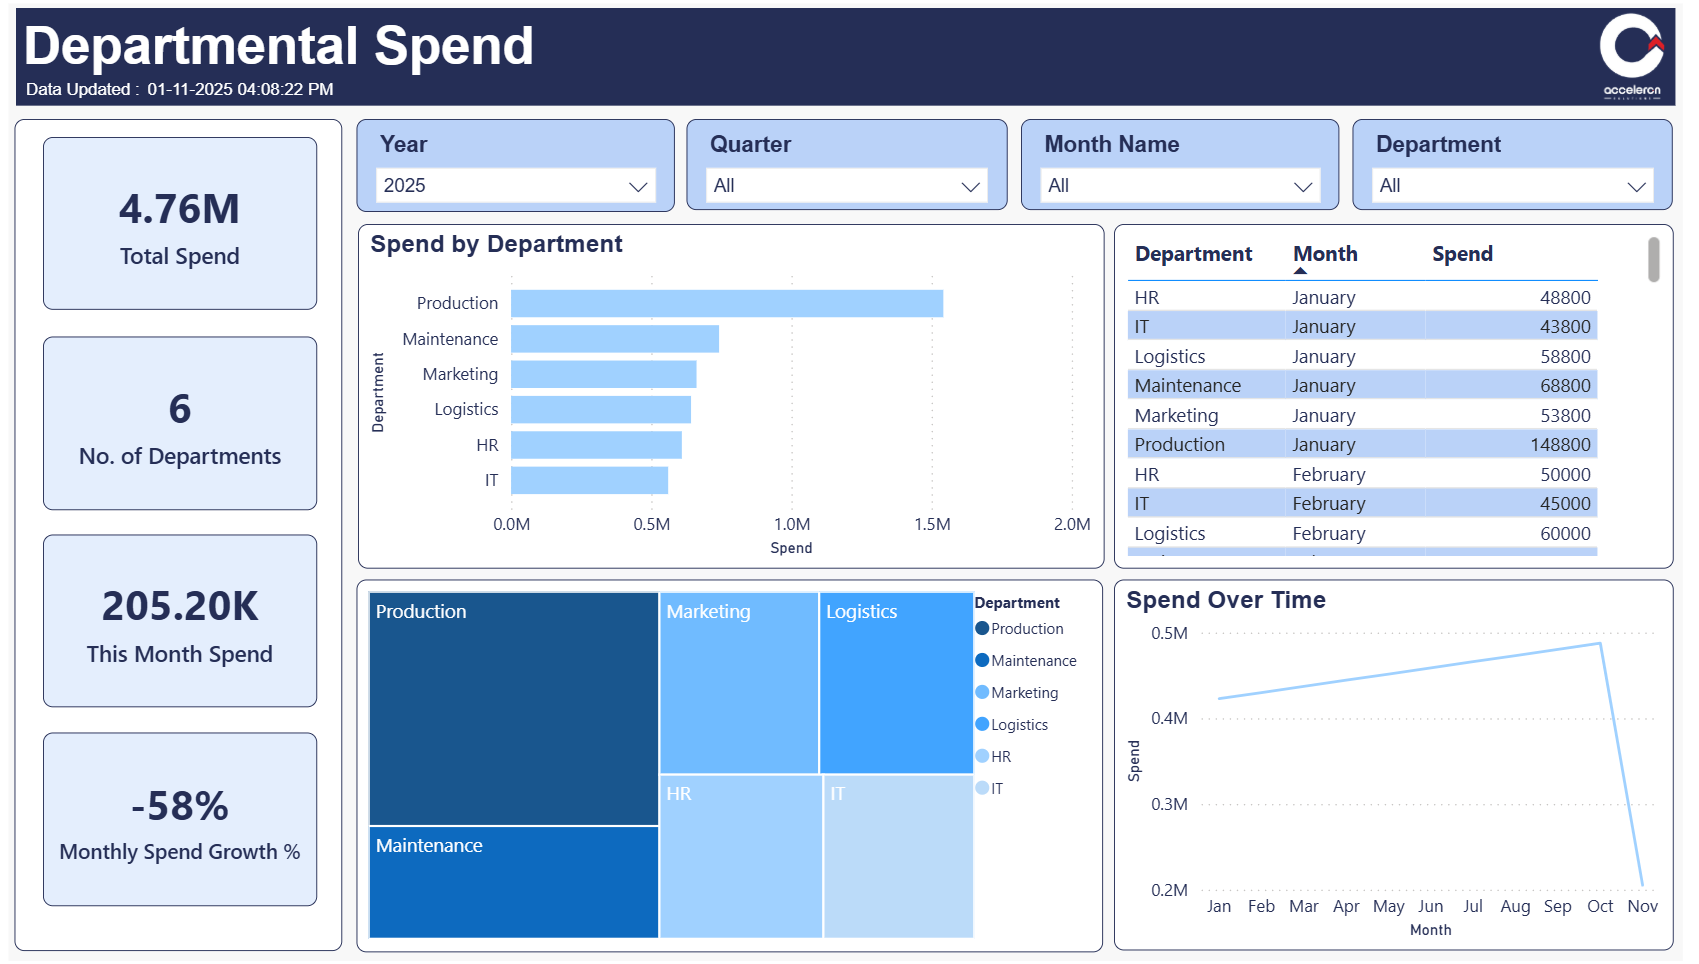

The dashboard page shown, as its layout file describes it:
{"tool":"powerbi","page":{"name":"Departmental Spend","canvas":[1200,690],"ordinal":3},"visuals":[{"type":"textbox","box":[5.6,5.6,1188.8,680],"z":0},{"type":"textbox","box":[10.5,8.1,1178.2,69.4],"z":1000},{"type":"image","box":[1127.3,57,60.2,21.9],"z":2000},{"type":"image","box":[1127.3,5.5,60.2,59.4],"z":3000},{"type":"textbox","box":[13,49.5,95.8,29.2],"z":4000},{"type":"textbox","box":[98.6,49.5,157.4,31],"z":5000},{"type":"slicer","fields":{"Values":["Date.Year"]},"box":[252.3,87.7,226,66.2],"z":6000},{"type":"slicer","fields":{"Values":["Date.Month Name"]},"box":[724.3,87.5,226.3,64.5],"z":7000},{"type":"slicer","fields":{"Values":["Date.Quarter"]},"box":[486.7,87.8,227.8,64.4],"z":8000},{"type":"textbox","box":[9.9,87.6,232.6,590.9],"z":9000},{"type":"card","fields":{"Values":["Count(DepartmentalSpend.Department)"]},"box":[29.6,241.8,194.9,123.5],"z":10000},{"type":"card","fields":{"Values":["Sum(DepartmentalSpend.Spend)"]},"box":[29.6,100,194.9,122.4],"z":11000},{"type":"card","fields":{"Values":["DepartmentalSpend.This Month Spend"]},"box":[29.6,382.7,194.9,122.4],"z":12000},{"type":"tableEx","fields":{"Values":["DepartmentalSpend.Department","DepartmentalSpend.Column.Variation.Date Hierarchy.Month","Sum(DepartmentalSpend.Spend)"]},"box":[790.6,161.8,397.1,244.7],"z":13000},{"type":"card","fields":{"Values":["DepartmentalSpend.Spend Growth %"]},"box":[29.6,522.4,194.9,123.5],"z":14000},{"type":"slicer","fields":{"Values":["DepartmentalSpend.Department"]},"box":[959.9,87.5,227.6,64.5],"z":15000},{"type":"treemap","title":"Spend by Department","fields":{"Group":["DepartmentalSpend.Department"],"Values":["Sum(DepartmentalSpend.Spend)"]},"box":[252.9,413.8,529.9,264.4],"z":16000},{"type":"lineChart","title":"Spend Over Time","fields":{"Y":["Sum(DepartmentalSpend.Spend)"],"Category":["Date.Month Name"]},"box":[790.6,414.1,397.6,263.5],"z":17000},{"type":"barChart","title":"Spend by Department","fields":{"Category":["DepartmentalSpend.Department"],"Y":["Sum(DepartmentalSpend.Spend)"]},"box":[252.9,161.8,530,244.7],"z":18000}]}

Visuals, with their boxes in screenshot pixels (x1, y1, x2, y2), scaled from the page's 1200x690 canvas onto the 1699x964 screenshot:
textbox: box(8, 8, 1691, 958)
textbox: box(15, 11, 1683, 108)
image: box(1596, 80, 1681, 110)
image: box(1596, 8, 1681, 91)
textbox: box(18, 69, 154, 110)
textbox: box(140, 69, 362, 112)
slicer - Date.Year: box(357, 123, 677, 215)
slicer - Date.Month Name: box(1025, 122, 1346, 212)
slicer - Date.Quarter: box(689, 123, 1012, 213)
textbox: box(14, 122, 343, 948)
card - Count(DepartmentalSpend.Department): box(42, 338, 318, 510)
card - Sum(DepartmentalSpend.Spend): box(42, 140, 318, 311)
card - DepartmentalSpend.This Month Spend: box(42, 535, 318, 706)
tableEx - DepartmentalSpend.Department x DepartmentalSpend.Column.Variation.Date Hierarchy.Month: box(1119, 226, 1682, 568)
card - DepartmentalSpend.Spend Growth %: box(42, 730, 318, 902)
slicer - DepartmentalSpend.Department: box(1359, 122, 1681, 212)
"Spend by Department" treemap: box(358, 578, 1108, 948)
"Spend Over Time" lineChart: box(1119, 579, 1682, 947)
"Spend by Department" barChart: box(358, 226, 1108, 568)
